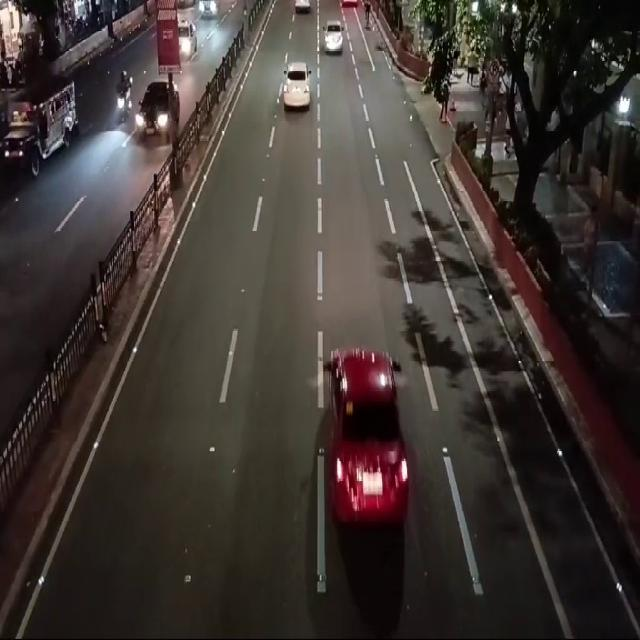car: (319, 329, 411, 526), (135, 66, 181, 149), (281, 50, 315, 124), (321, 13, 347, 65)
jeepney: (0, 65, 89, 196)
motorcycle: (113, 53, 135, 132)
